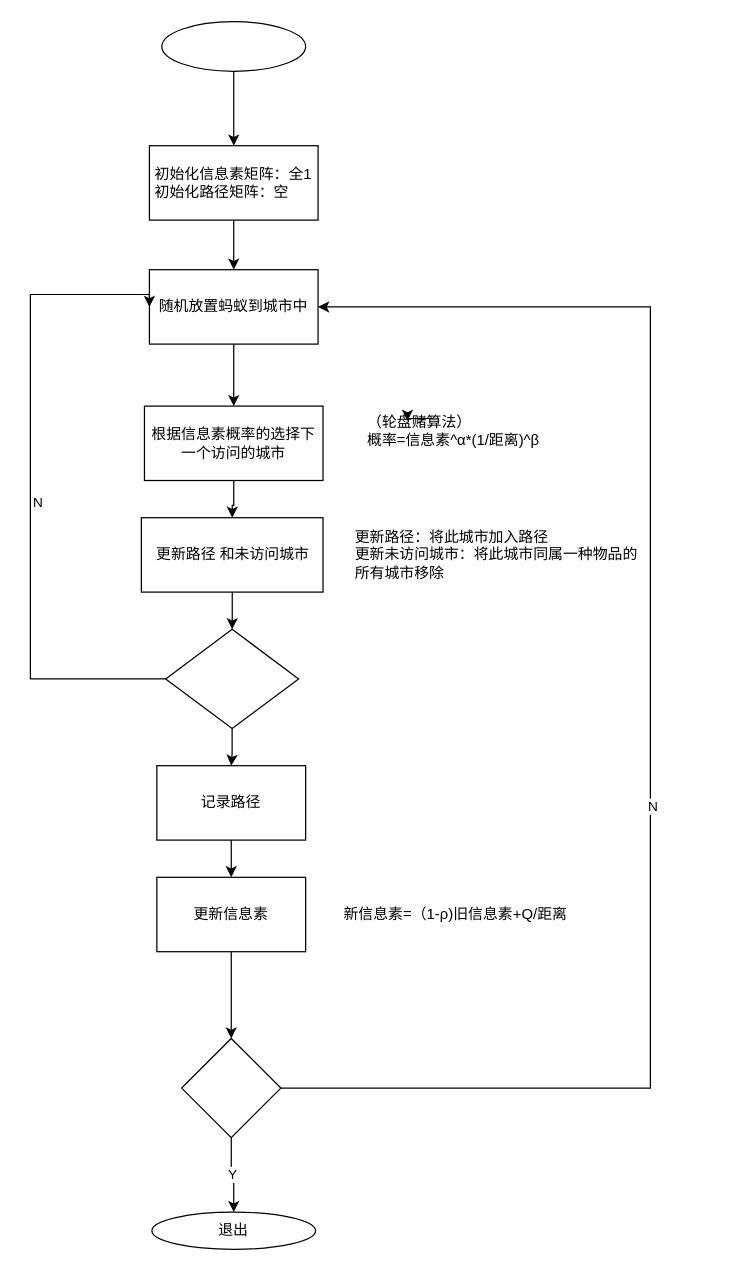
Image size: 735x1271. Some labels were removed from this diagram. The shapes that lost their labels are listed below. From the top down, each one's box as (x1, y1, x2, y2) in pixels, then its label:
(161, 20, 306, 71): 开始
(164, 628, 299, 728): 蚂蚁全部访问完毕
(180, 1037, 281, 1138): 满足退出条件？
